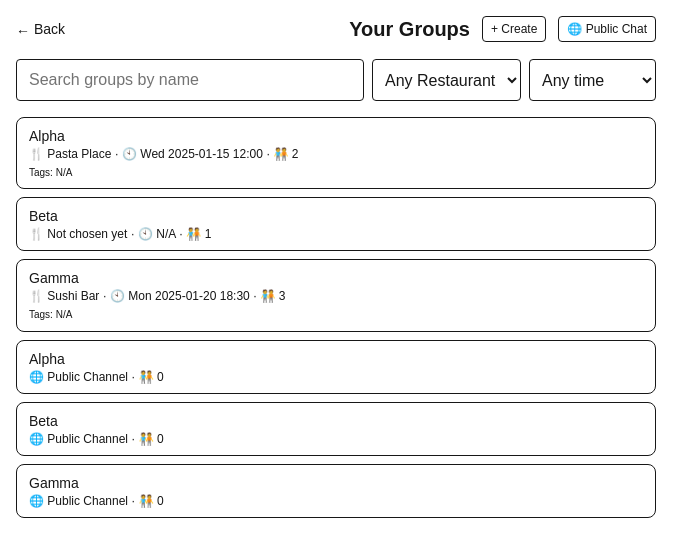
Test: GroupListPage › shows no matches message when filter returns no results
In the search field with placeholder "Search groups by name": (190, 80) [16,59,364,101], type "NonExistent"
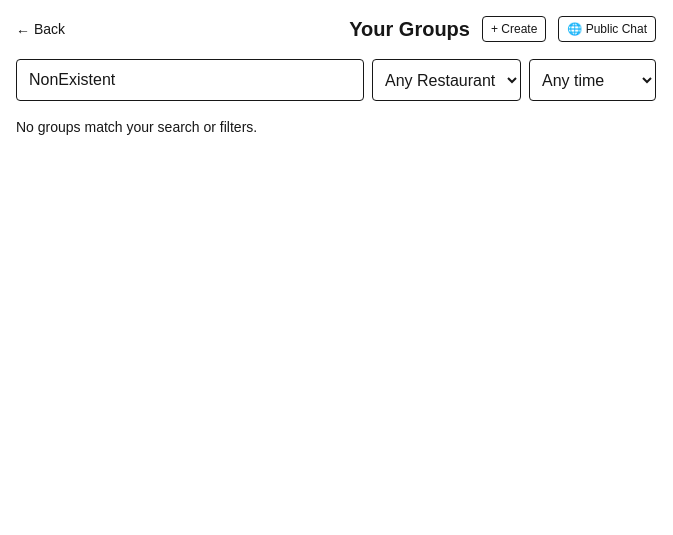
Expected: the text "No groups match your search or filters." is shown, [16,119,257,135]
